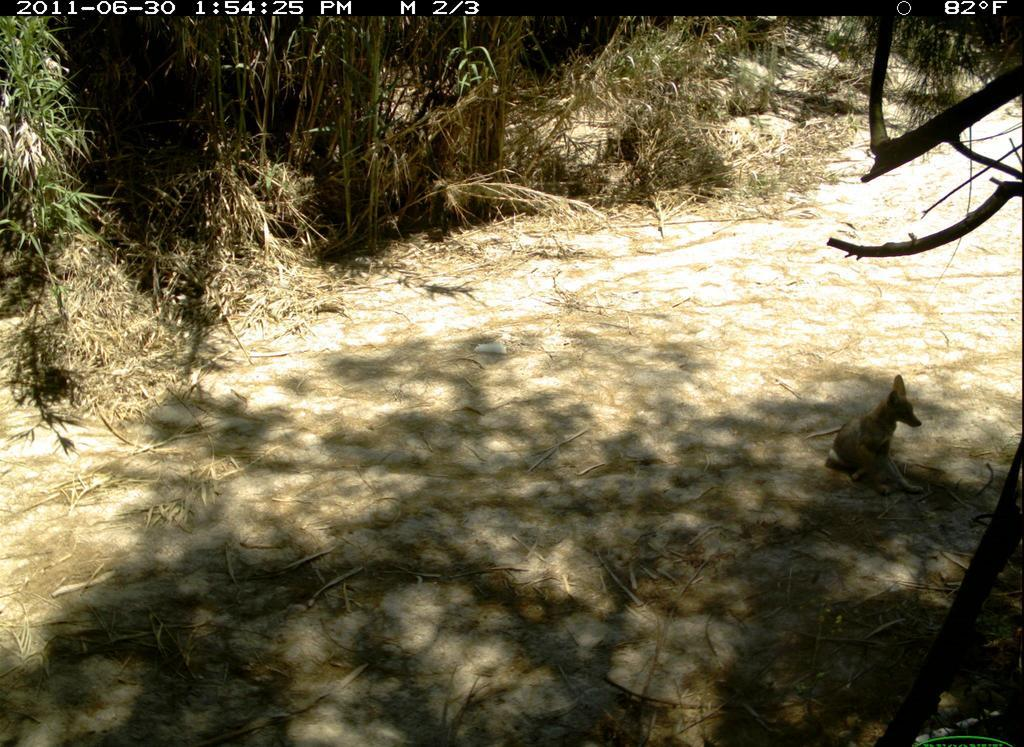coyote: (820, 373, 939, 511)
